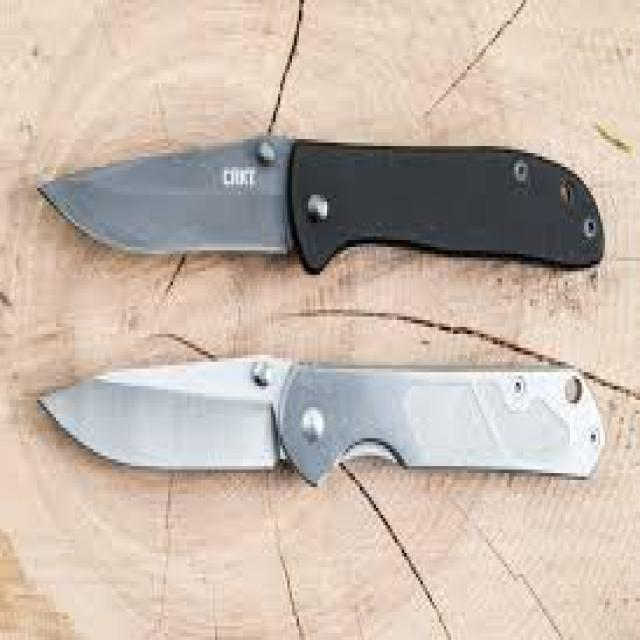knives: (39, 99, 625, 328)
